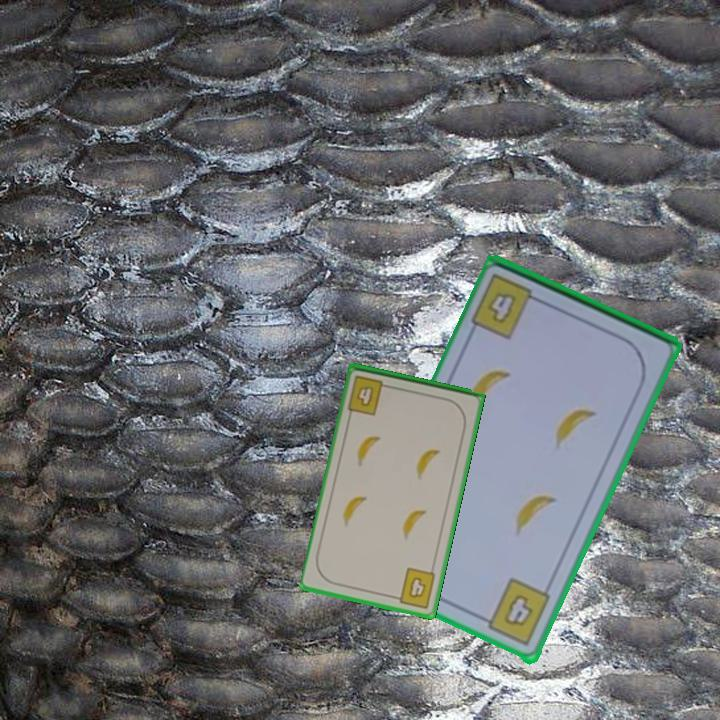4b: (476, 575, 554, 650), (389, 564, 439, 611), (344, 372, 394, 418), (484, 289, 520, 327)
